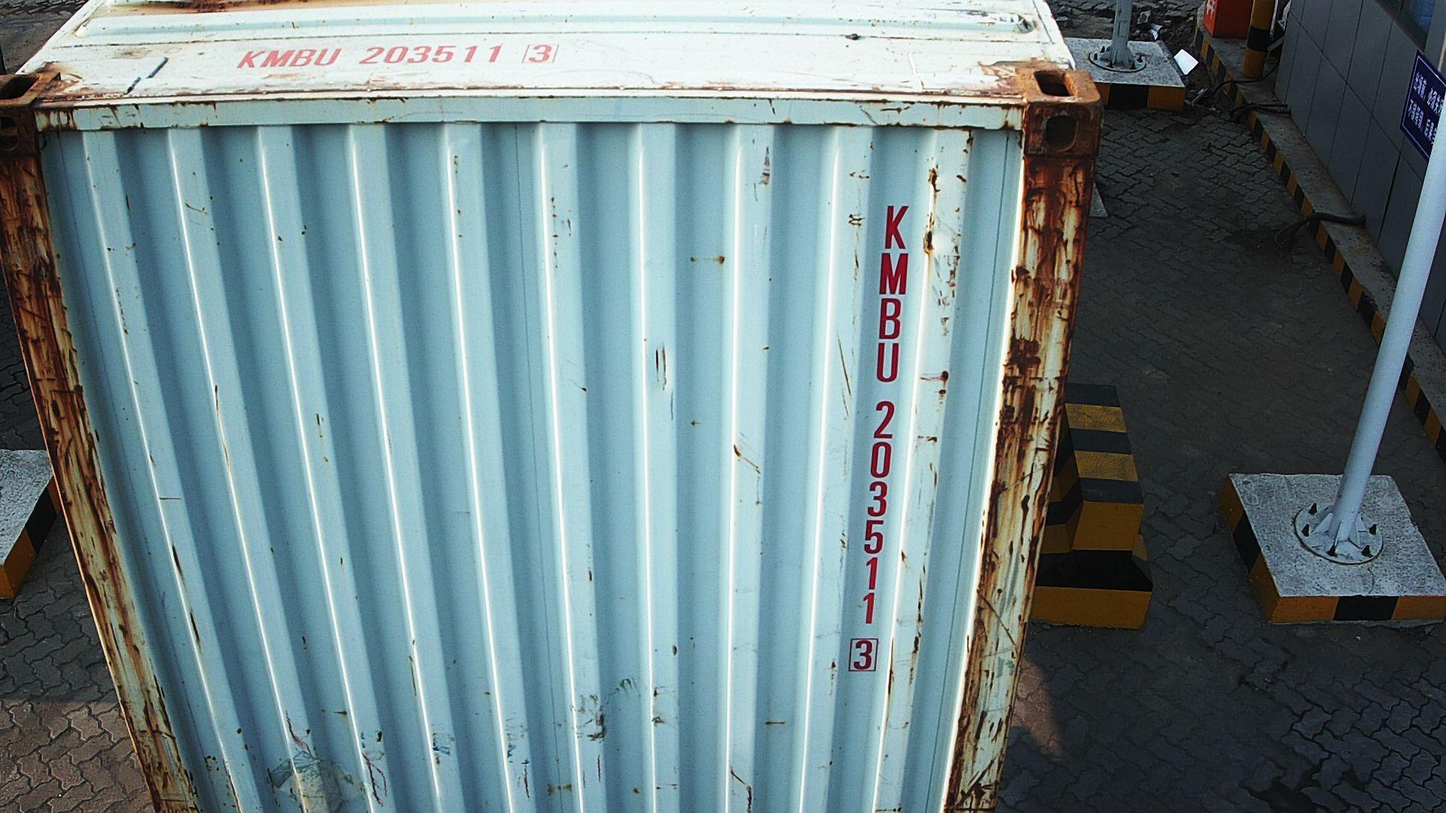container-numbers: (842, 198, 915, 683), (227, 41, 564, 76)
